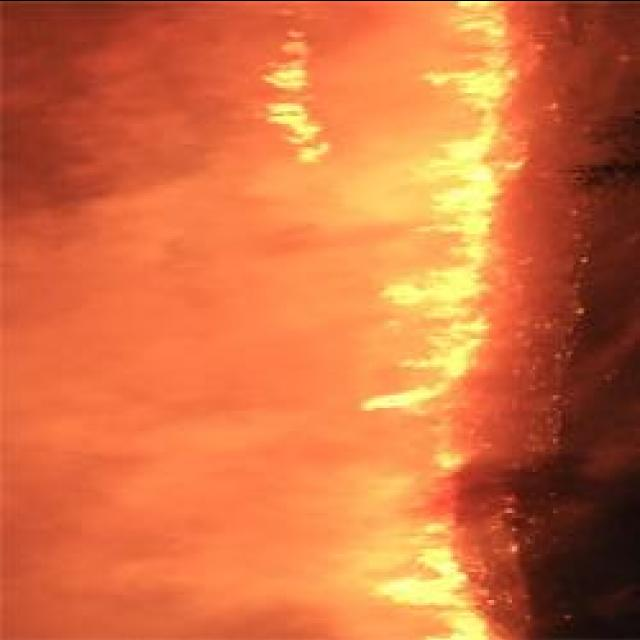fire: (400, 216, 490, 414), (444, 2, 512, 230), (378, 549, 490, 640), (264, 48, 328, 162)
smoke: (63, 544, 273, 640), (247, 504, 381, 632), (330, 175, 430, 242)
